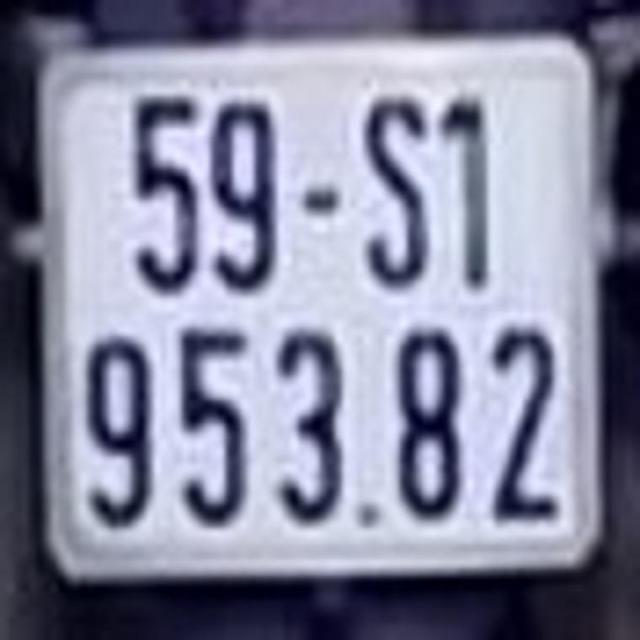1: (438, 82, 512, 292)
2: (484, 302, 569, 524)
3: (272, 314, 348, 527)
5: (174, 318, 253, 528), (128, 89, 202, 295)
8: (388, 310, 469, 521)
9: (208, 90, 282, 296), (82, 327, 155, 530)
S: (357, 80, 434, 293)
